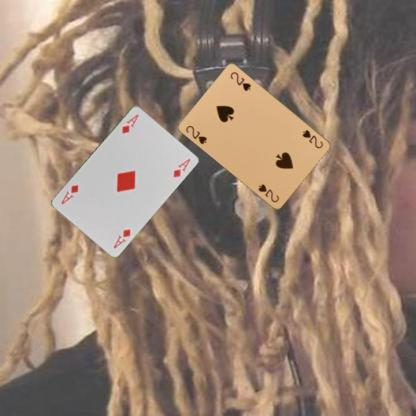2s: (184, 122, 208, 146), (300, 127, 325, 150)
Ad: (111, 226, 132, 250), (119, 112, 140, 134)
